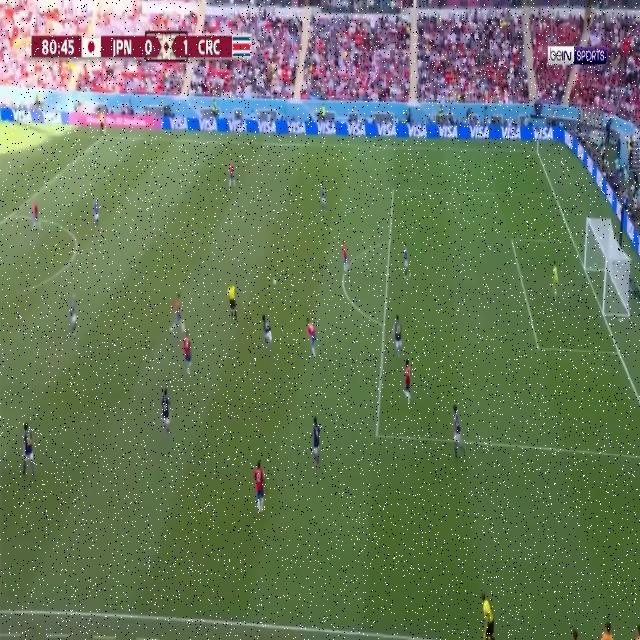Ball: (272, 274, 277, 286)
GoalKeeper: (551, 257, 559, 302)
Referee: (479, 590, 496, 640), (227, 279, 238, 324), (100, 110, 106, 137)
TEAM 1: (253, 454, 270, 520), (168, 291, 188, 332), (306, 315, 318, 365), (404, 355, 414, 412), (184, 330, 194, 375), (228, 157, 237, 195), (342, 235, 350, 275), (32, 202, 42, 233)
TEAM 2: (451, 401, 467, 461), (389, 313, 406, 359), (22, 422, 34, 483), (162, 388, 172, 439), (310, 414, 320, 464), (262, 312, 274, 348), (402, 238, 412, 279), (70, 290, 78, 335), (320, 181, 328, 215), (93, 197, 102, 224)
